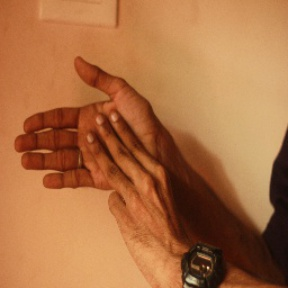M: (9, 54, 185, 208)
